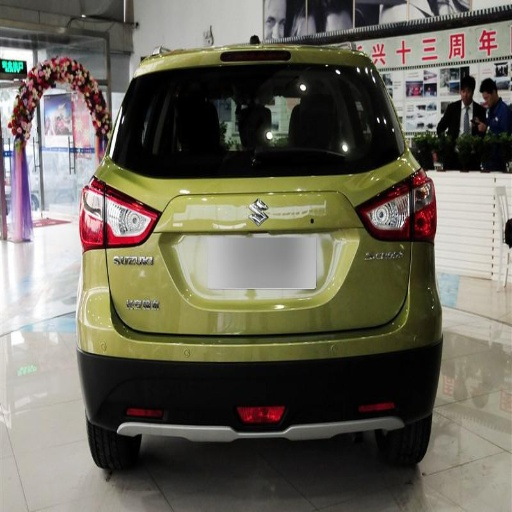back_bumper: (83, 242, 432, 440)
tailgate: (122, 161, 409, 334), (102, 163, 159, 246)
trunk: (104, 172, 211, 327)
